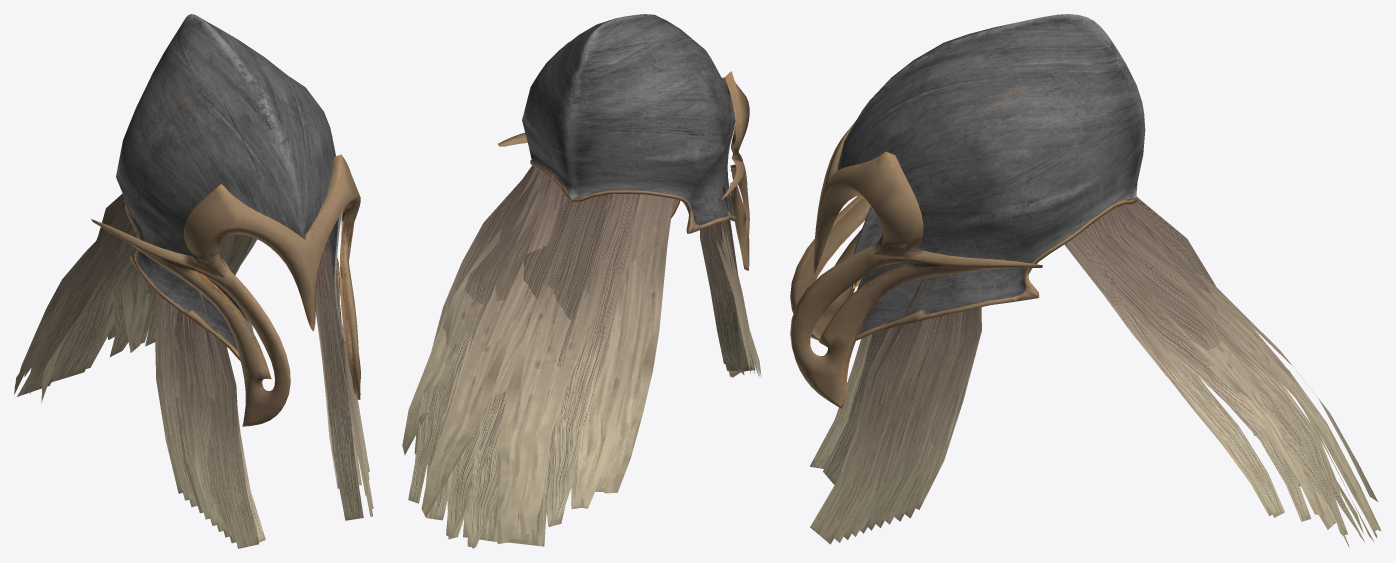
The model's file is mkwd_inf2_t2_helmet_silver_hc.fbx.
3 views of the same model, side by side, from view 1: azimuth 30°, elevation 25°; view 2: azimuth 150°, elevation 25°; view 3: azimuth 270°, elevation 25° (orthographic). The views are drawn at different scales.
Parts seen in each view (by area): view 1: mkwd_inf2_t2_helmet_silver_hc.lod0.0, mkwd_inf2_t2_helmet_silver_hc.lod0.1; view 2: mkwd_inf2_t2_helmet_silver_hc.lod0.1, mkwd_inf2_t2_helmet_silver_hc.lod0.0; view 3: mkwd_inf2_t2_helmet_silver_hc.lod0.0, mkwd_inf2_t2_helmet_silver_hc.lod0.1.
Boxes of the visible parts, x1,y1,x2,y2 form: mkwd_inf2_t2_helmet_silver_hc.lod0.0: [91, 14, 360, 426]; mkwd_inf2_t2_helmet_silver_hc.lod0.1: [14, 193, 373, 548]; mkwd_inf2_t2_helmet_silver_hc.lod0.1: [402, 165, 761, 548]; mkwd_inf2_t2_helmet_silver_hc.lod0.0: [498, 14, 749, 270]; mkwd_inf2_t2_helmet_silver_hc.lod0.0: [790, 14, 1145, 408]; mkwd_inf2_t2_helmet_silver_hc.lod0.1: [810, 198, 1381, 547].
Size of the model in its own units: 0.265 by 0.4991 by 0.4808.
Materials: 2 (2 with a texture image).
